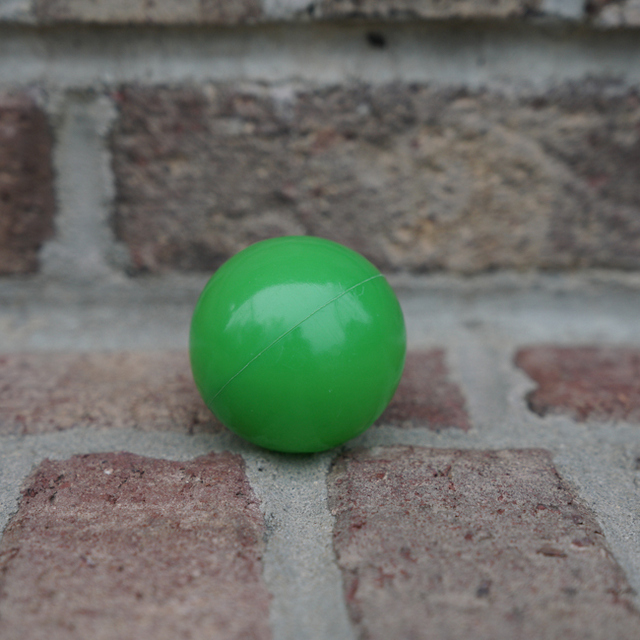Ball: (194, 235, 406, 459)
